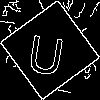U: (25, 25, 68, 77)
